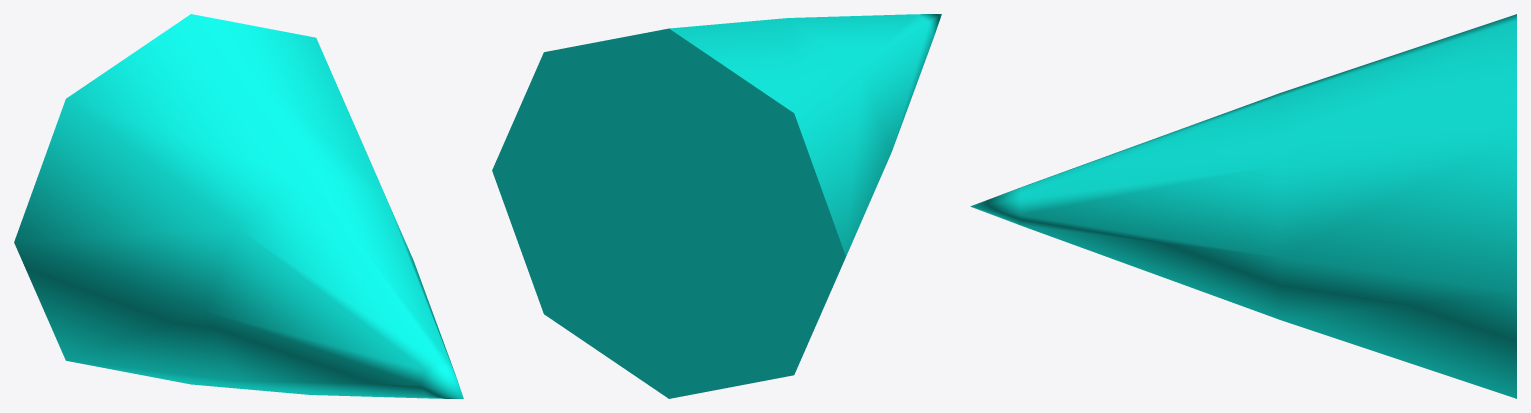
The model's file is SM_FrontPenetrating.fbx.
3 renders of one model, left to right at view 1: azimuth 30°, elevation 25°; view 2: azimuth 150°, elevation 25°; view 3: azimuth 270°, elevation 25°, orthographic.
Parts seen in each view (by area): view 1: FrontPenetrating; view 2: FrontPenetrating; view 3: FrontPenetrating.
Part boxes in pixels (bbox=[...]): FrontPenetrating: bbox=[14, 14, 463, 398]; FrontPenetrating: bbox=[492, 14, 941, 398]; FrontPenetrating: bbox=[970, 14, 1516, 398].
Bounding box in the file's own units: 0.6836 × 0.6836 × 0.9126.
Materials: 1 (1 with a texture image).
